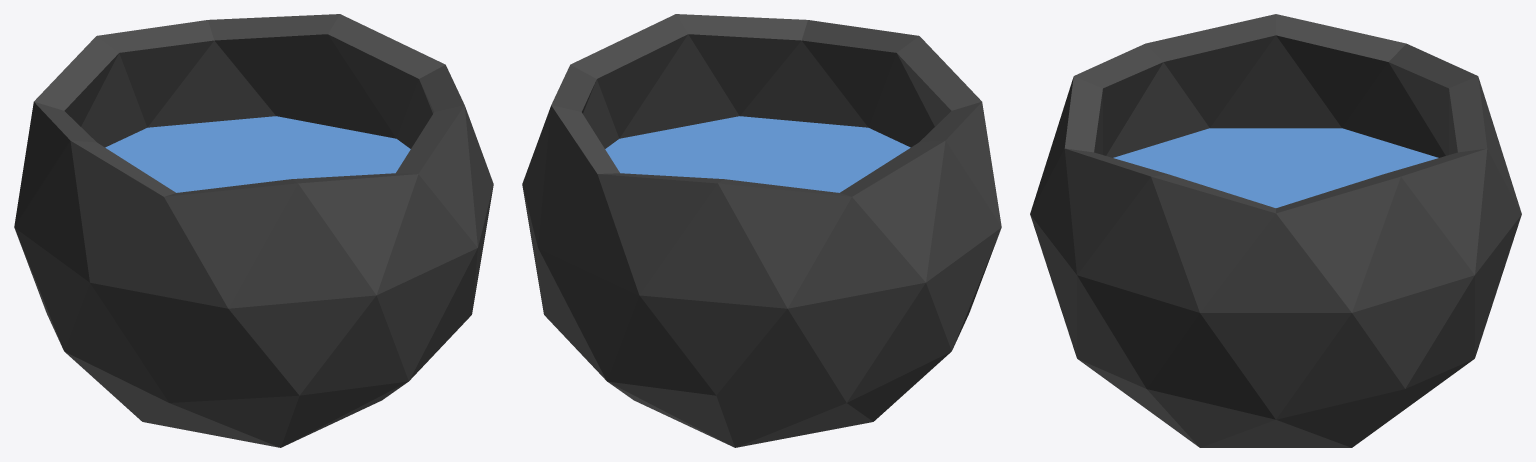
Rendered from cauldron_water.glb.
The picture shows the model from 3 angles, left to right: view 1: azimuth 30°, elevation 25°; view 2: azimuth 150°, elevation 25°; view 3: azimuth 270°, elevation 25°; orthographic projection.
Parts seen in each view (by area): view 1: cauldron_water; view 2: cauldron_water; view 3: cauldron_water.
Part boxes in pixels (x1,y1,x2,y2): cauldron_water: [14, 14, 493, 447]; cauldron_water: [522, 14, 1001, 447]; cauldron_water: [1030, 14, 1521, 447].
Size of the model in its own units: 2.44 by 1.92 by 2.57.
